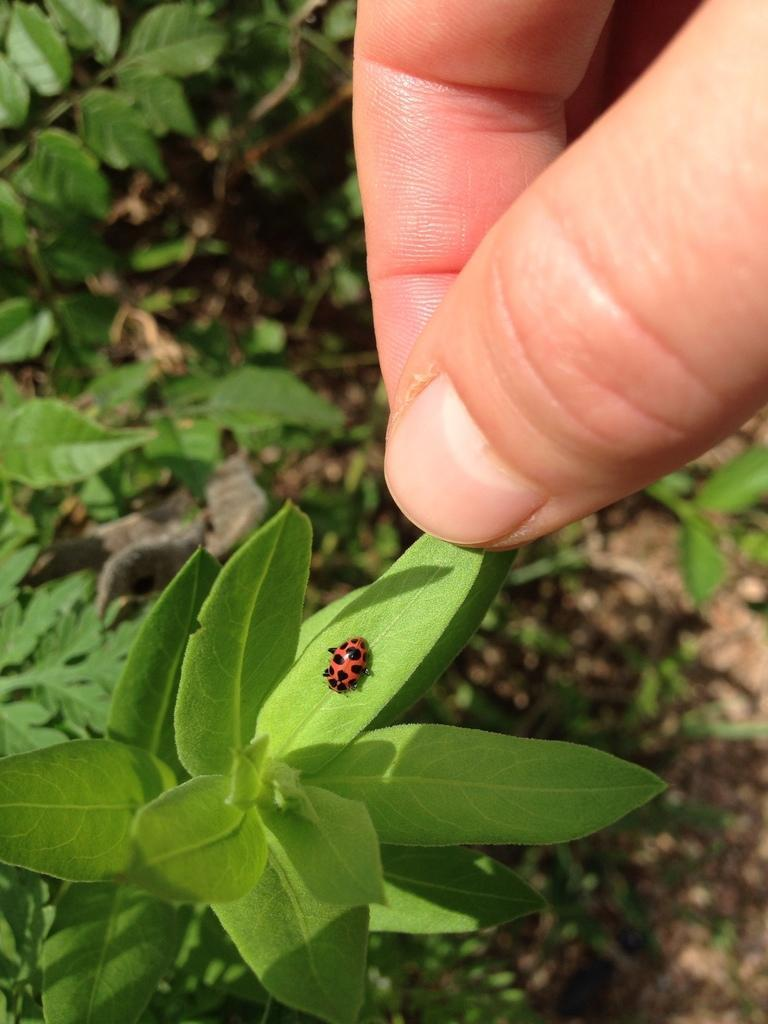ladybug: (324, 636, 375, 700)
